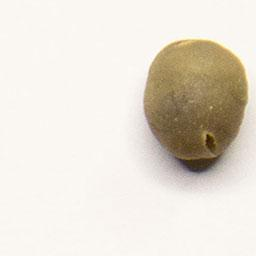peaberry: (140, 33, 250, 165)
